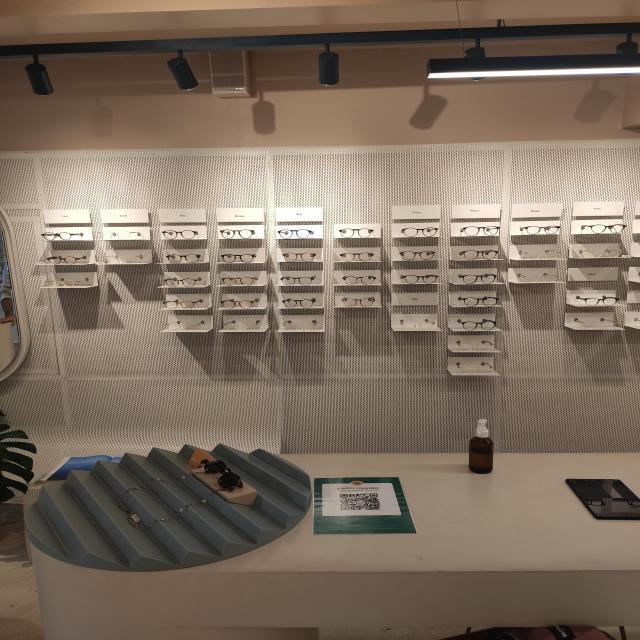qrcode: (341, 495, 382, 511)
